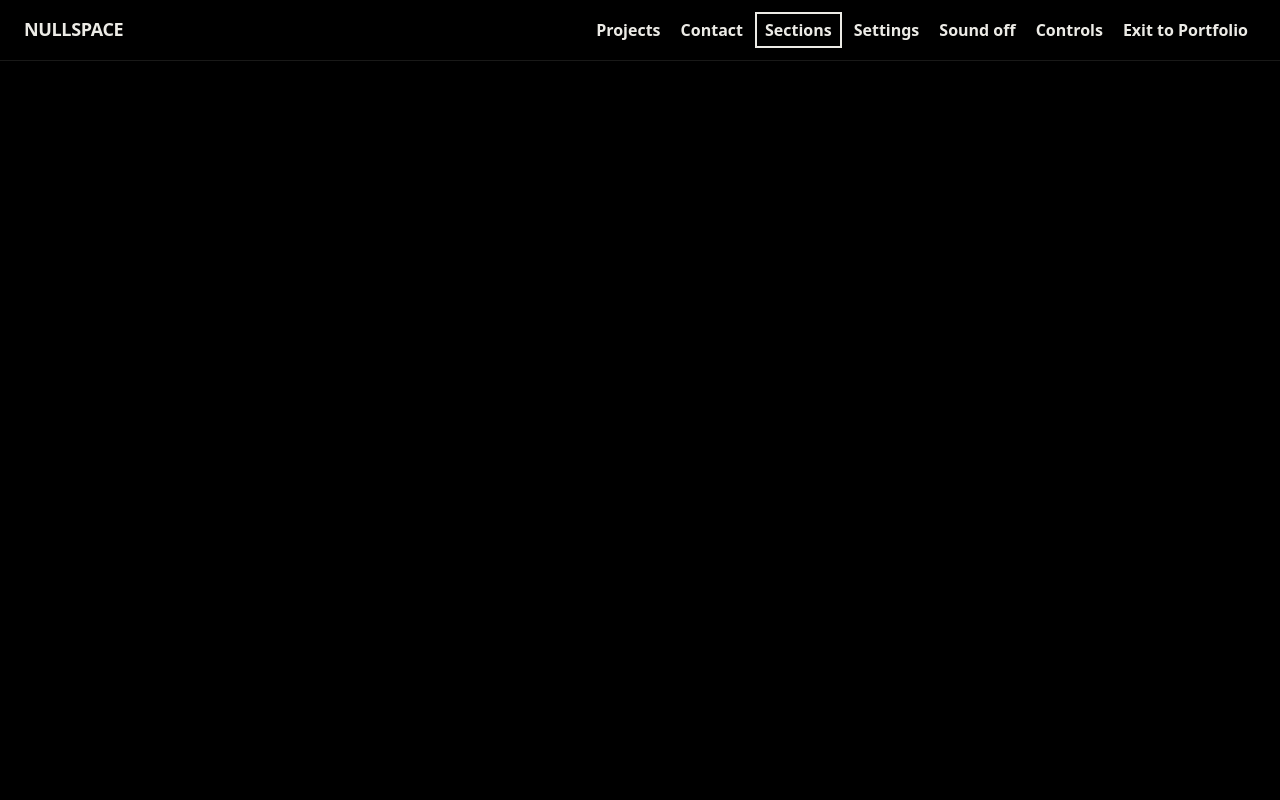
Settings › opens as a labelled dialog from the top bar
Click the button "Settings" at (886, 30), box [846,14,927,46]
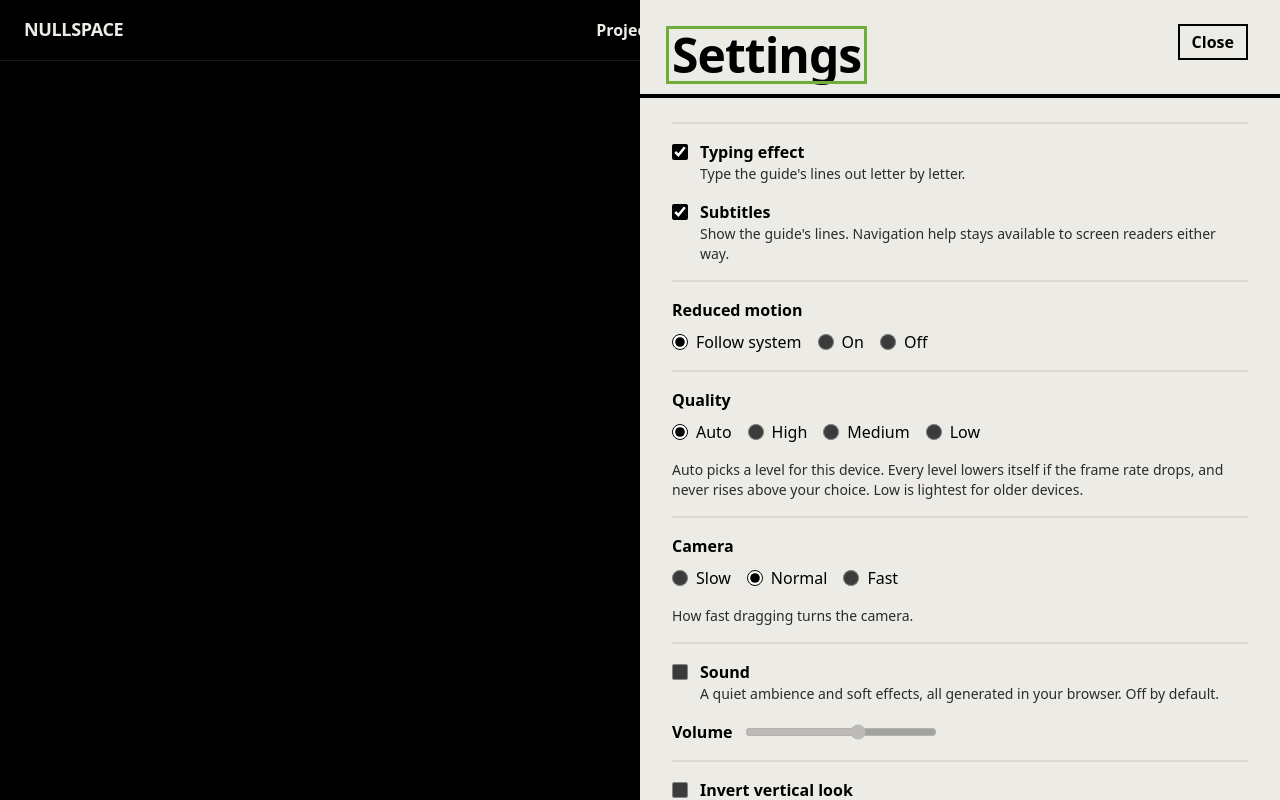
Now the dialog "Settings" is shown, box [640,0,1279,799]
